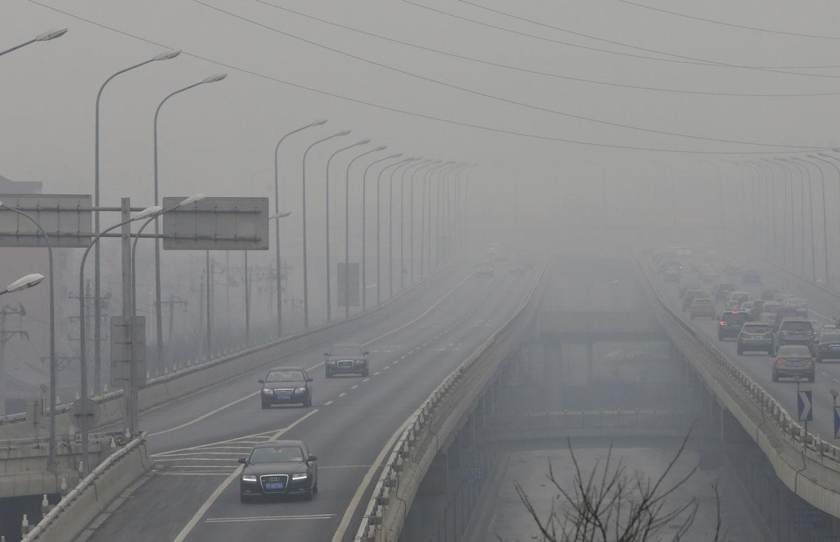bench: (768, 297, 807, 327)
bus: (259, 365, 312, 409), (755, 318, 808, 358), (769, 340, 815, 382), (761, 302, 811, 340), (770, 315, 819, 353), (324, 343, 368, 378), (758, 296, 804, 325), (682, 292, 714, 331), (717, 294, 749, 331), (814, 326, 840, 363), (716, 308, 747, 339), (687, 297, 713, 319), (680, 289, 707, 310), (726, 291, 749, 312)
car: (238, 439, 318, 501), (272, 360, 356, 409), (749, 314, 816, 369), (744, 297, 813, 349), (720, 301, 786, 340), (243, 436, 307, 472), (259, 366, 312, 409), (785, 320, 837, 360), (771, 318, 818, 358), (757, 335, 809, 371), (775, 336, 824, 373), (770, 343, 815, 383), (754, 321, 802, 356), (322, 343, 369, 378), (324, 361, 366, 398), (797, 332, 840, 367), (745, 302, 779, 345), (747, 294, 792, 326), (318, 374, 364, 405), (737, 292, 769, 336), (762, 296, 807, 327), (736, 307, 770, 348), (769, 309, 814, 339), (735, 322, 774, 356), (720, 314, 761, 346), (234, 435, 288, 459), (774, 304, 825, 329), (717, 294, 749, 331), (727, 299, 761, 333), (251, 433, 308, 453), (681, 293, 720, 322), (813, 338, 839, 379), (780, 317, 819, 342), (695, 313, 732, 339), (814, 326, 840, 362), (732, 296, 771, 320), (715, 310, 746, 340), (774, 339, 814, 361), (768, 293, 806, 316), (688, 301, 716, 332), (332, 375, 368, 398), (679, 290, 709, 315), (319, 384, 353, 406), (745, 299, 776, 323), (767, 288, 806, 307), (685, 315, 715, 337), (734, 321, 760, 346), (731, 320, 751, 352), (715, 287, 747, 307), (773, 312, 806, 331), (774, 318, 807, 337), (788, 343, 816, 365), (688, 298, 714, 320), (757, 300, 779, 326), (781, 299, 807, 321), (784, 315, 819, 331), (725, 306, 749, 329), (714, 308, 737, 331), (732, 293, 763, 310), (714, 316, 735, 341), (689, 293, 716, 312), (761, 292, 795, 307), (713, 294, 736, 316), (725, 291, 749, 312), (750, 310, 774, 331), (710, 289, 731, 313), (717, 302, 741, 323), (683, 296, 702, 322), (736, 308, 753, 336), (730, 295, 749, 320), (740, 300, 762, 321), (815, 320, 838, 340), (729, 317, 746, 344), (816, 343, 840, 362), (780, 293, 808, 309), (678, 288, 696, 312), (733, 306, 757, 324), (757, 290, 779, 309), (728, 289, 754, 305), (733, 297, 756, 315), (713, 285, 736, 303), (712, 313, 727, 340), (676, 318, 697, 336), (711, 305, 725, 330), (758, 288, 780, 301)
cell phone: (258, 367, 312, 408)
chair: (775, 317, 818, 357), (814, 326, 839, 362)
frisbee: (1, 273, 43, 292)
kite: (1, 273, 43, 292)
motorcycle: (236, 439, 318, 501), (771, 344, 816, 382), (736, 319, 774, 358)
parking meter: (259, 366, 312, 409)
person: (768, 316, 810, 358), (771, 344, 816, 382), (736, 319, 774, 358), (715, 300, 746, 336), (723, 310, 748, 338), (728, 304, 747, 329), (727, 292, 749, 313), (738, 300, 759, 321)
toaster: (324, 343, 368, 378)
truck: (237, 441, 317, 501), (715, 292, 803, 334), (744, 297, 813, 349), (259, 366, 312, 409), (755, 318, 808, 358), (785, 320, 837, 360), (770, 315, 819, 353), (770, 343, 815, 382), (770, 330, 817, 367), (323, 343, 369, 378), (729, 305, 771, 343), (734, 293, 776, 329), (747, 294, 792, 326), (762, 296, 807, 327), (735, 321, 774, 356), (769, 309, 814, 339), (718, 314, 757, 346), (682, 292, 714, 331), (686, 285, 723, 318), (717, 294, 749, 331), (727, 299, 761, 333), (699, 292, 743, 318), (724, 290, 766, 313), (716, 308, 747, 339), (814, 326, 840, 362), (768, 293, 806, 316), (710, 286, 736, 315), (679, 290, 709, 315), (745, 299, 776, 323), (715, 287, 747, 307), (687, 297, 714, 319), (730, 295, 756, 317), (726, 291, 749, 312), (740, 300, 762, 321), (678, 288, 696, 312), (728, 289, 754, 305), (713, 285, 736, 303)
